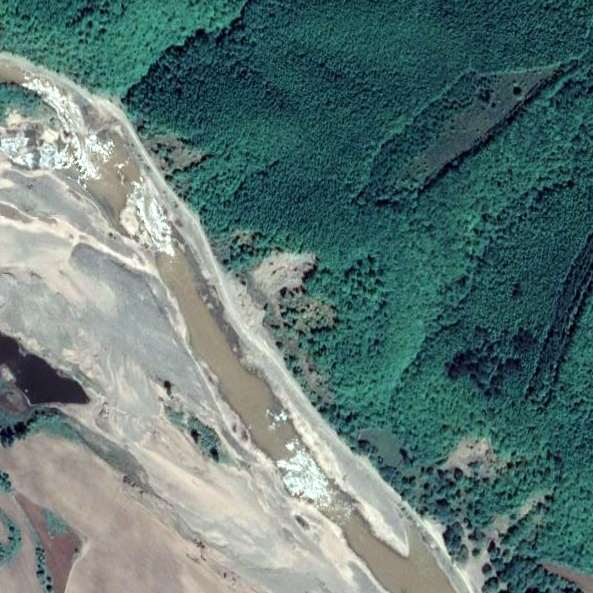slope: (230, 244, 333, 353), (140, 131, 203, 174)
